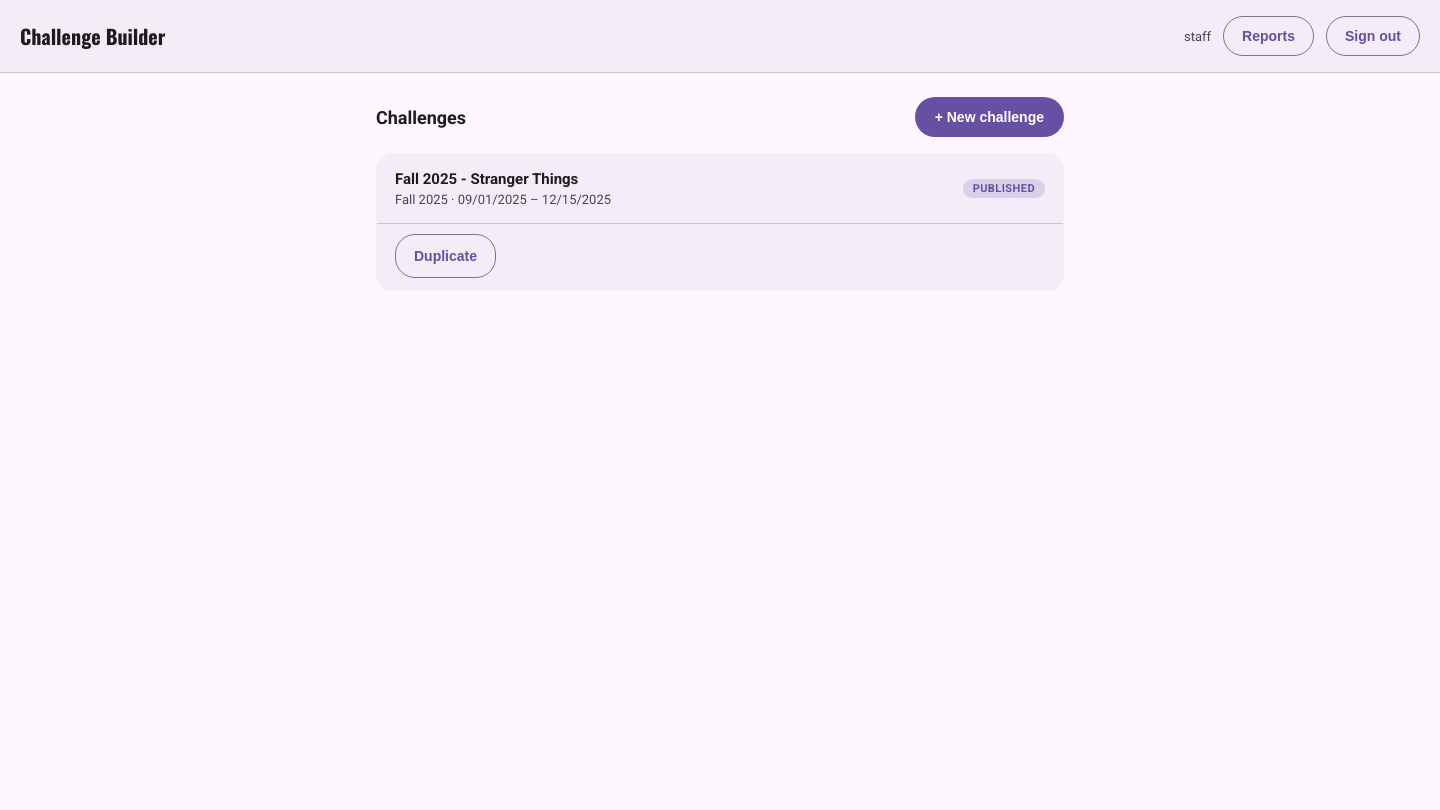
Test: ChallengeBuilder — duplicate (US-14 / FR-B6) › prefills the copy's name and the original's semester
Check: the heading "Fall 2025 - Stranger Things" is shown, box [395,170,578,188]
Click the button "Duplicate" at {"x": 446, "y": 256}, box [395,234,496,278]
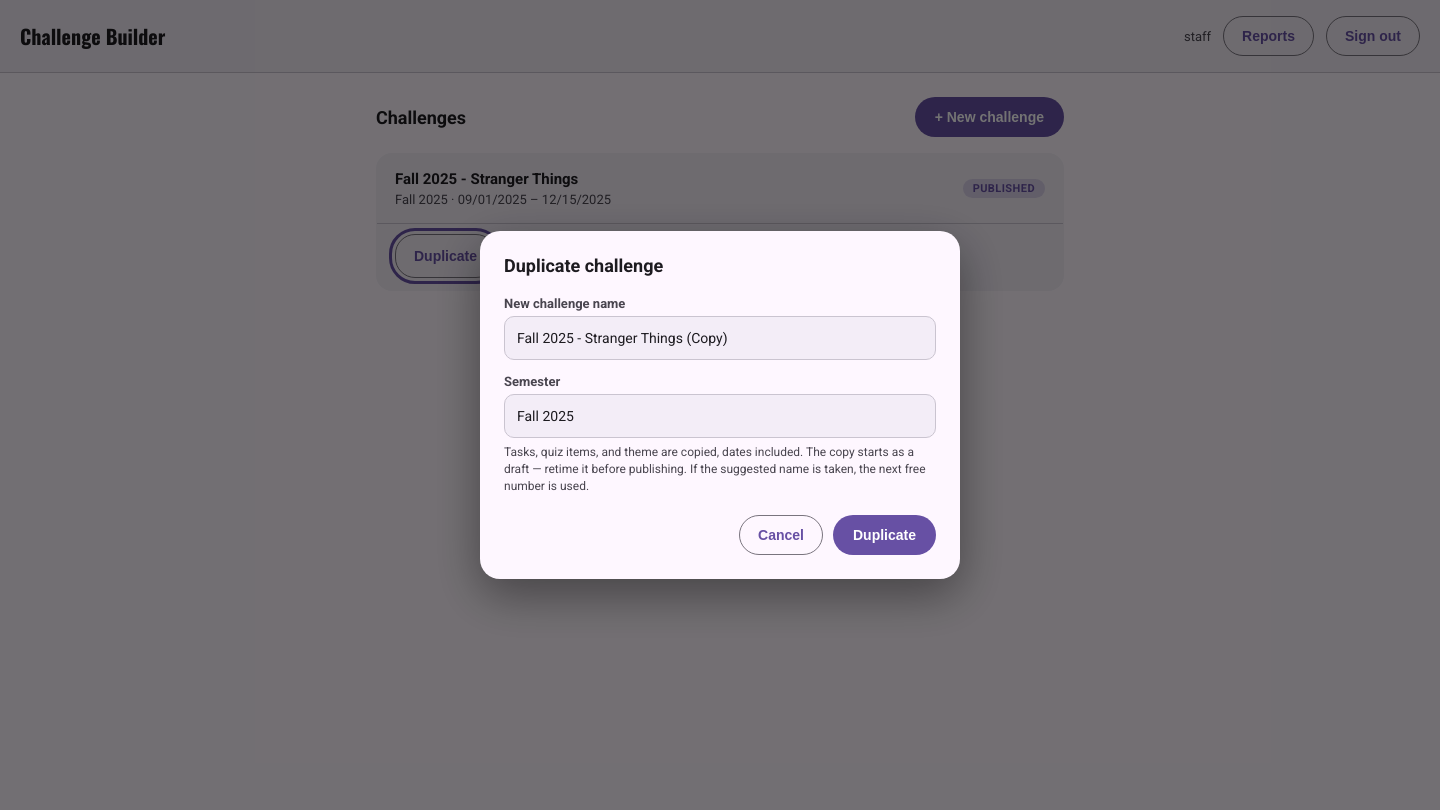
Check: the field labelled "New challenge name" holds "Fall 2025 - Stranger Things (Copy)", box [504,316,936,360]
Check: the field labelled "Semester" holds "Fall 2025", box [504,394,936,438]
